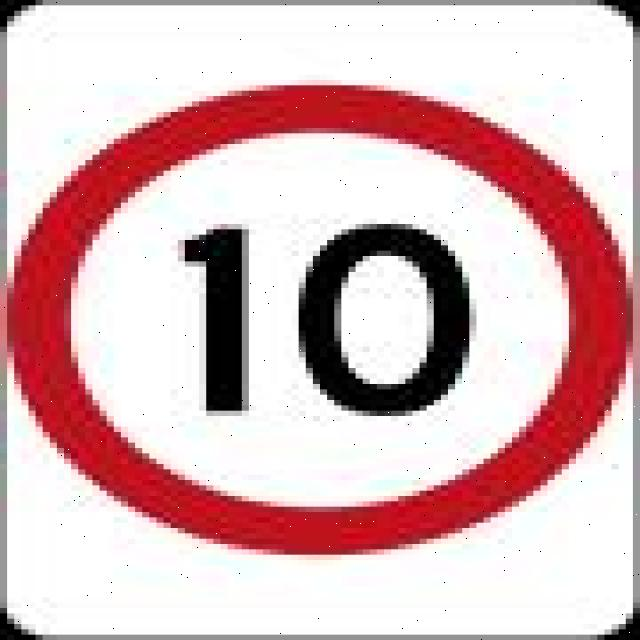speed limit 10: (7, 80, 633, 553)
